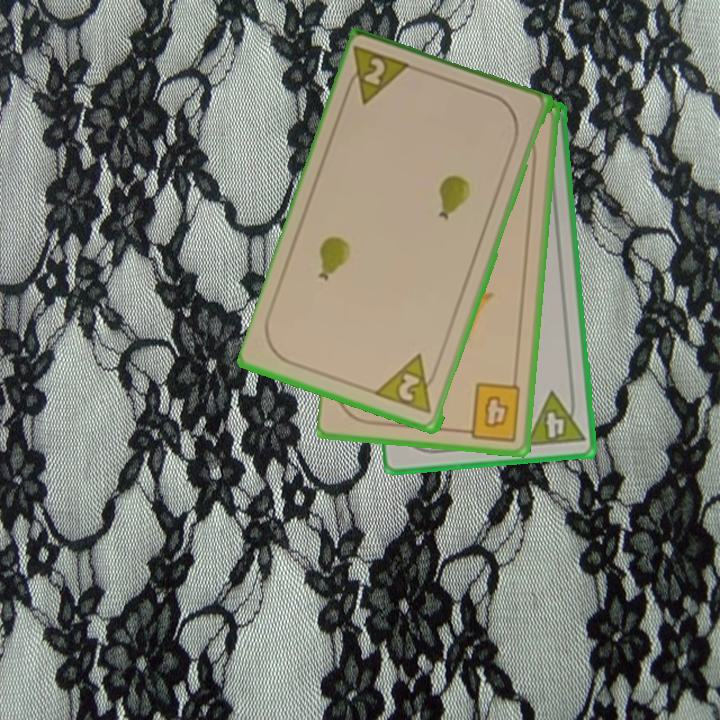2p: (340, 43, 417, 109), (373, 351, 441, 418)
4b: (458, 379, 524, 444)
4p: (522, 386, 587, 450)
